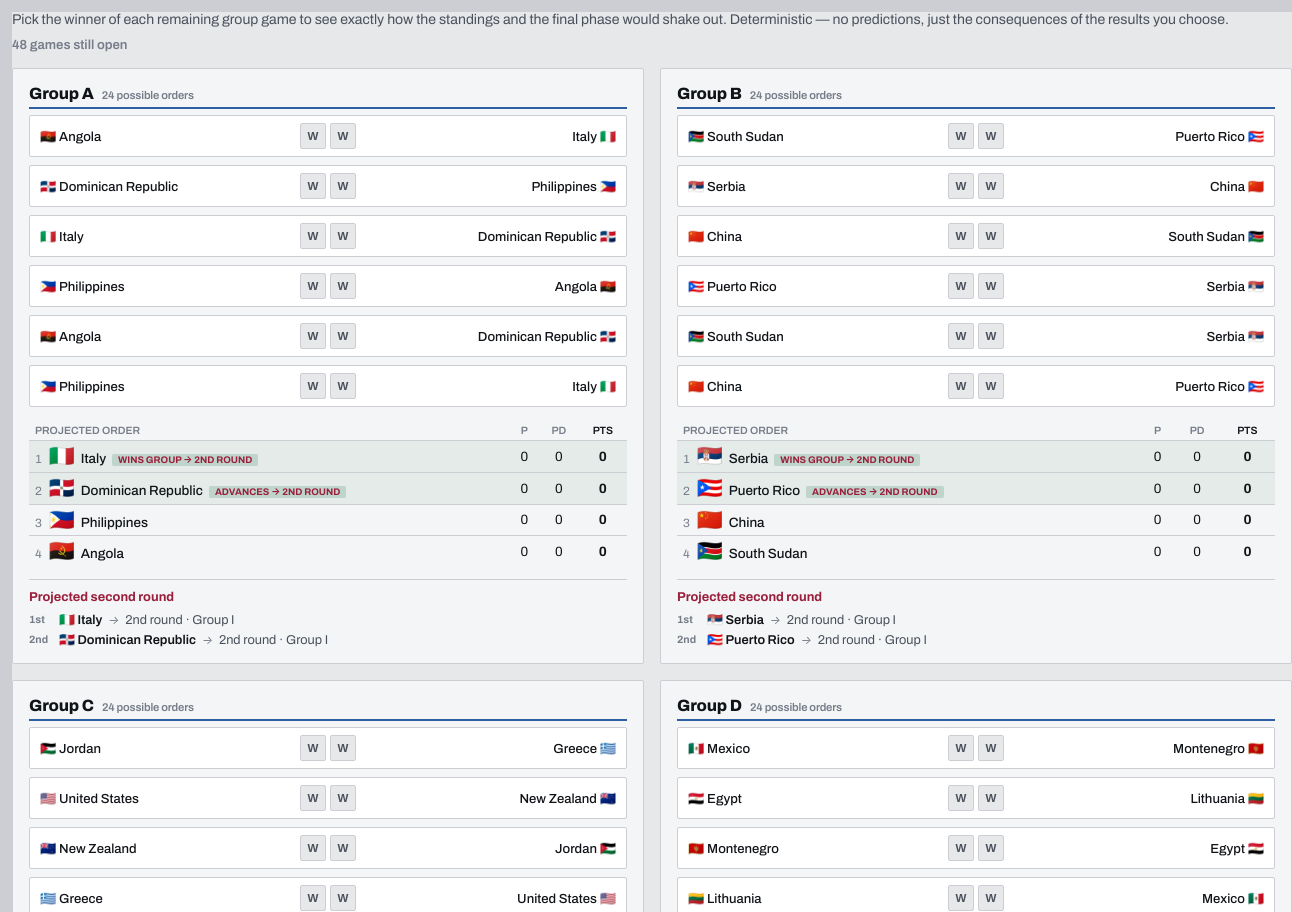
it: ScenariosView remaining arms › picks the away side, and highlights it
Click the 2nd button "W" at (343, 136), box [330,123,356,149]
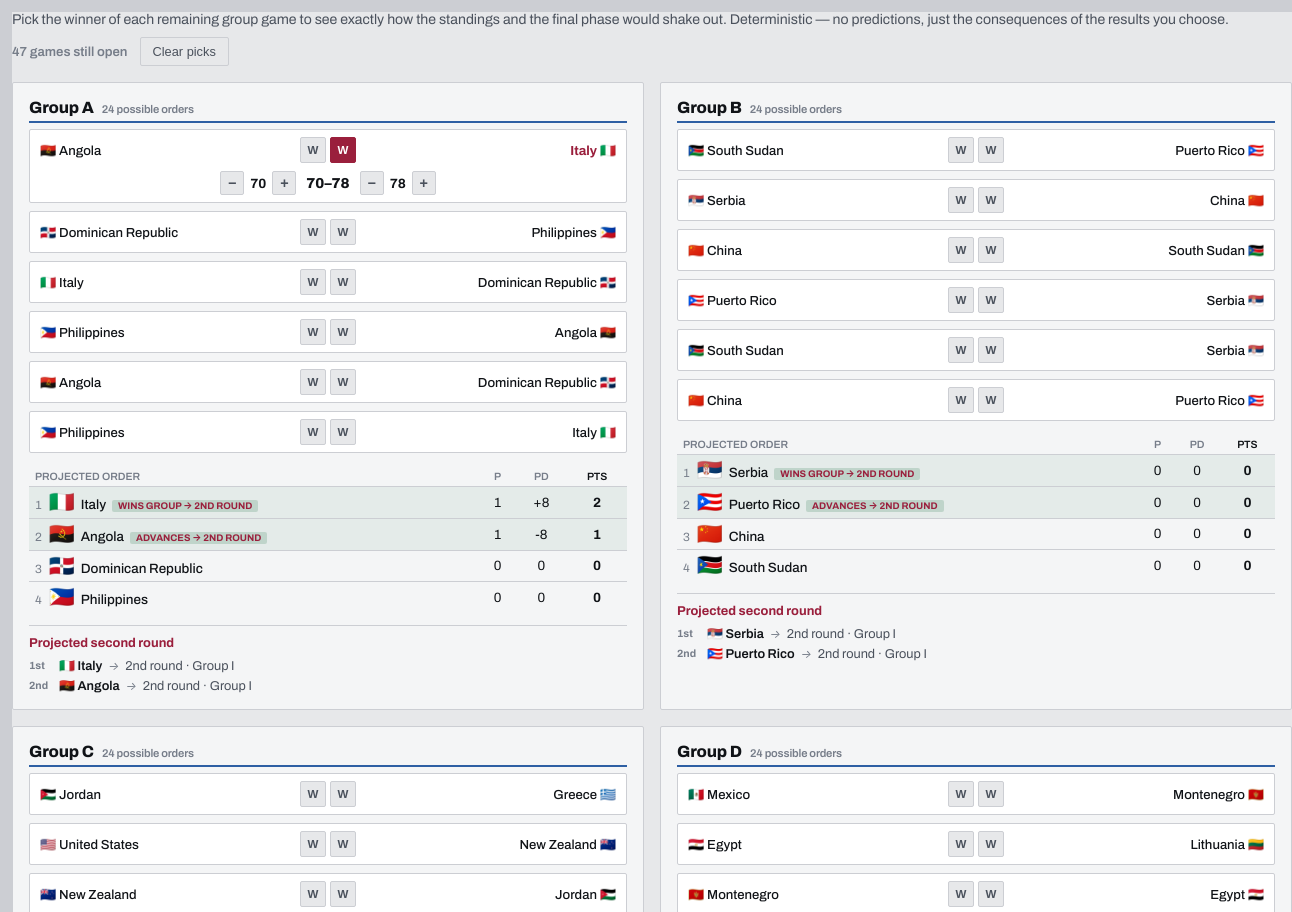
Expected: the 2nd button "W" is shown, [330,137,356,163]
Result: the 1st text "Italy 🇮🇹" is shown at [570,142,616,158]
